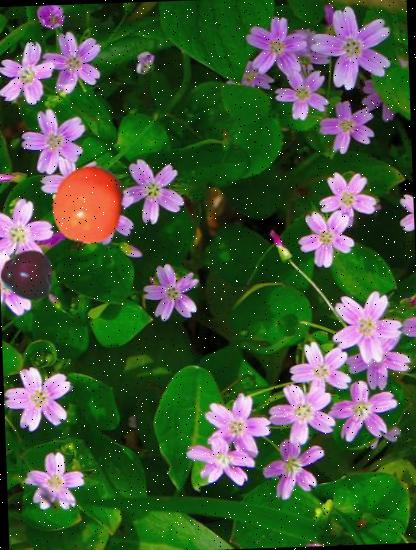Apple: (0, 246, 57, 304)
Clementine: (48, 164, 130, 246)
